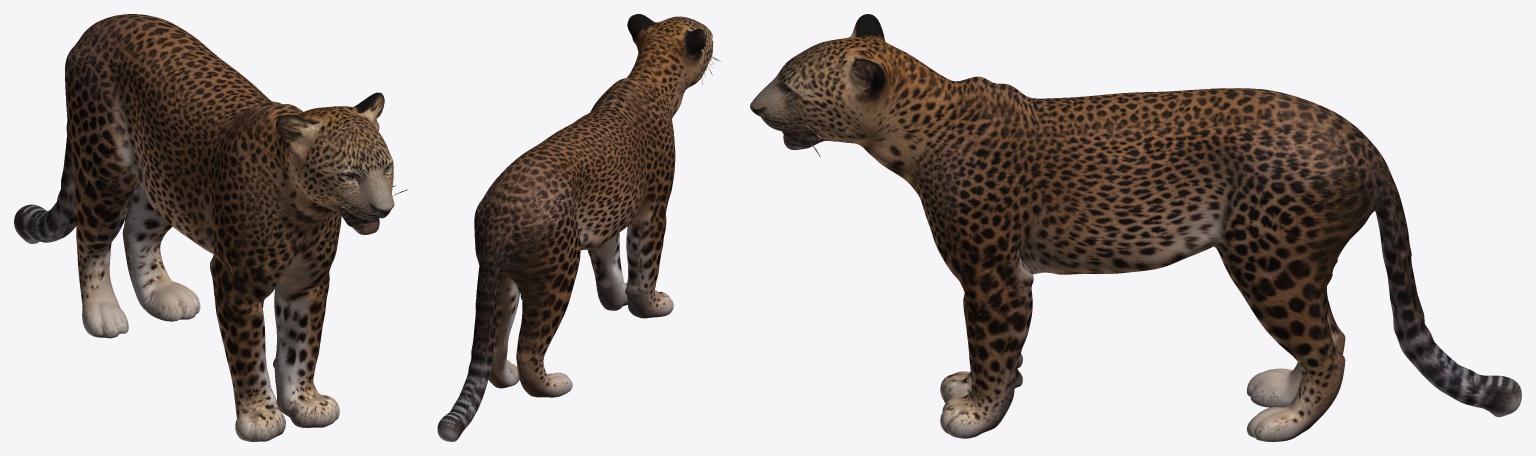
File: Leopard.glb
The picture shows the model from 3 angles, left to right: view 1: azimuth 30°, elevation 25°; view 2: azimuth 150°, elevation 25°; view 3: azimuth 270°, elevation 25°; orthographic projection. The views are drawn at different scales.
Visible parts, largest first — view 1: node_0; view 2: node_0; view 3: node_0.
Boxes of the visible parts, bbox=[...] form: node_0: bbox=[14, 14, 407, 441]; node_0: bbox=[437, 14, 720, 441]; node_0: bbox=[750, 14, 1521, 441].
Size of the model in its own units: 0.1967 by 0.5841 by 1.08.
Materials: 1 (1 with a texture image).
